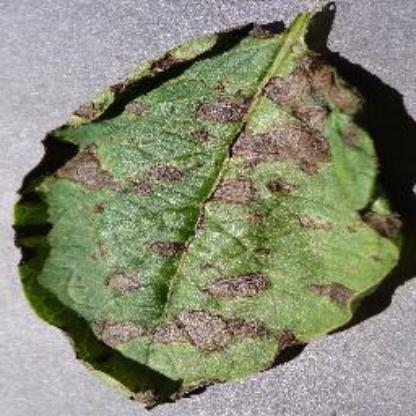Early-Blight: (12, 8, 402, 406)
